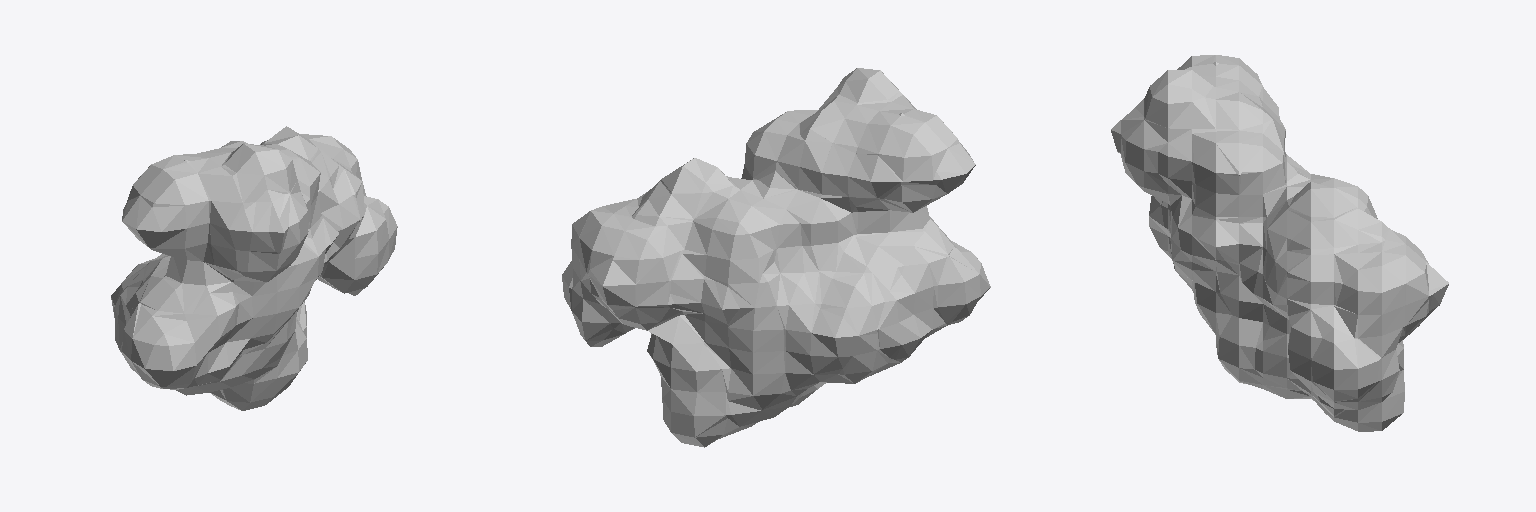
The model's file is 1eiy_1_cms.obj.
3 views of the same model, side by side, from view 1: azimuth 30°, elevation 25°; view 2: azimuth 150°, elevation 25°; view 3: azimuth 270°, elevation 25° (orthographic).
Bounding box in the file's own units: 173 × 155 × 150.